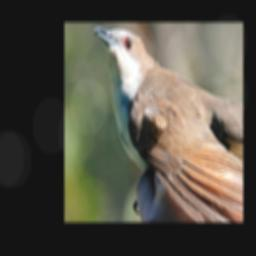Cuckoo: (93, 27, 243, 222)
